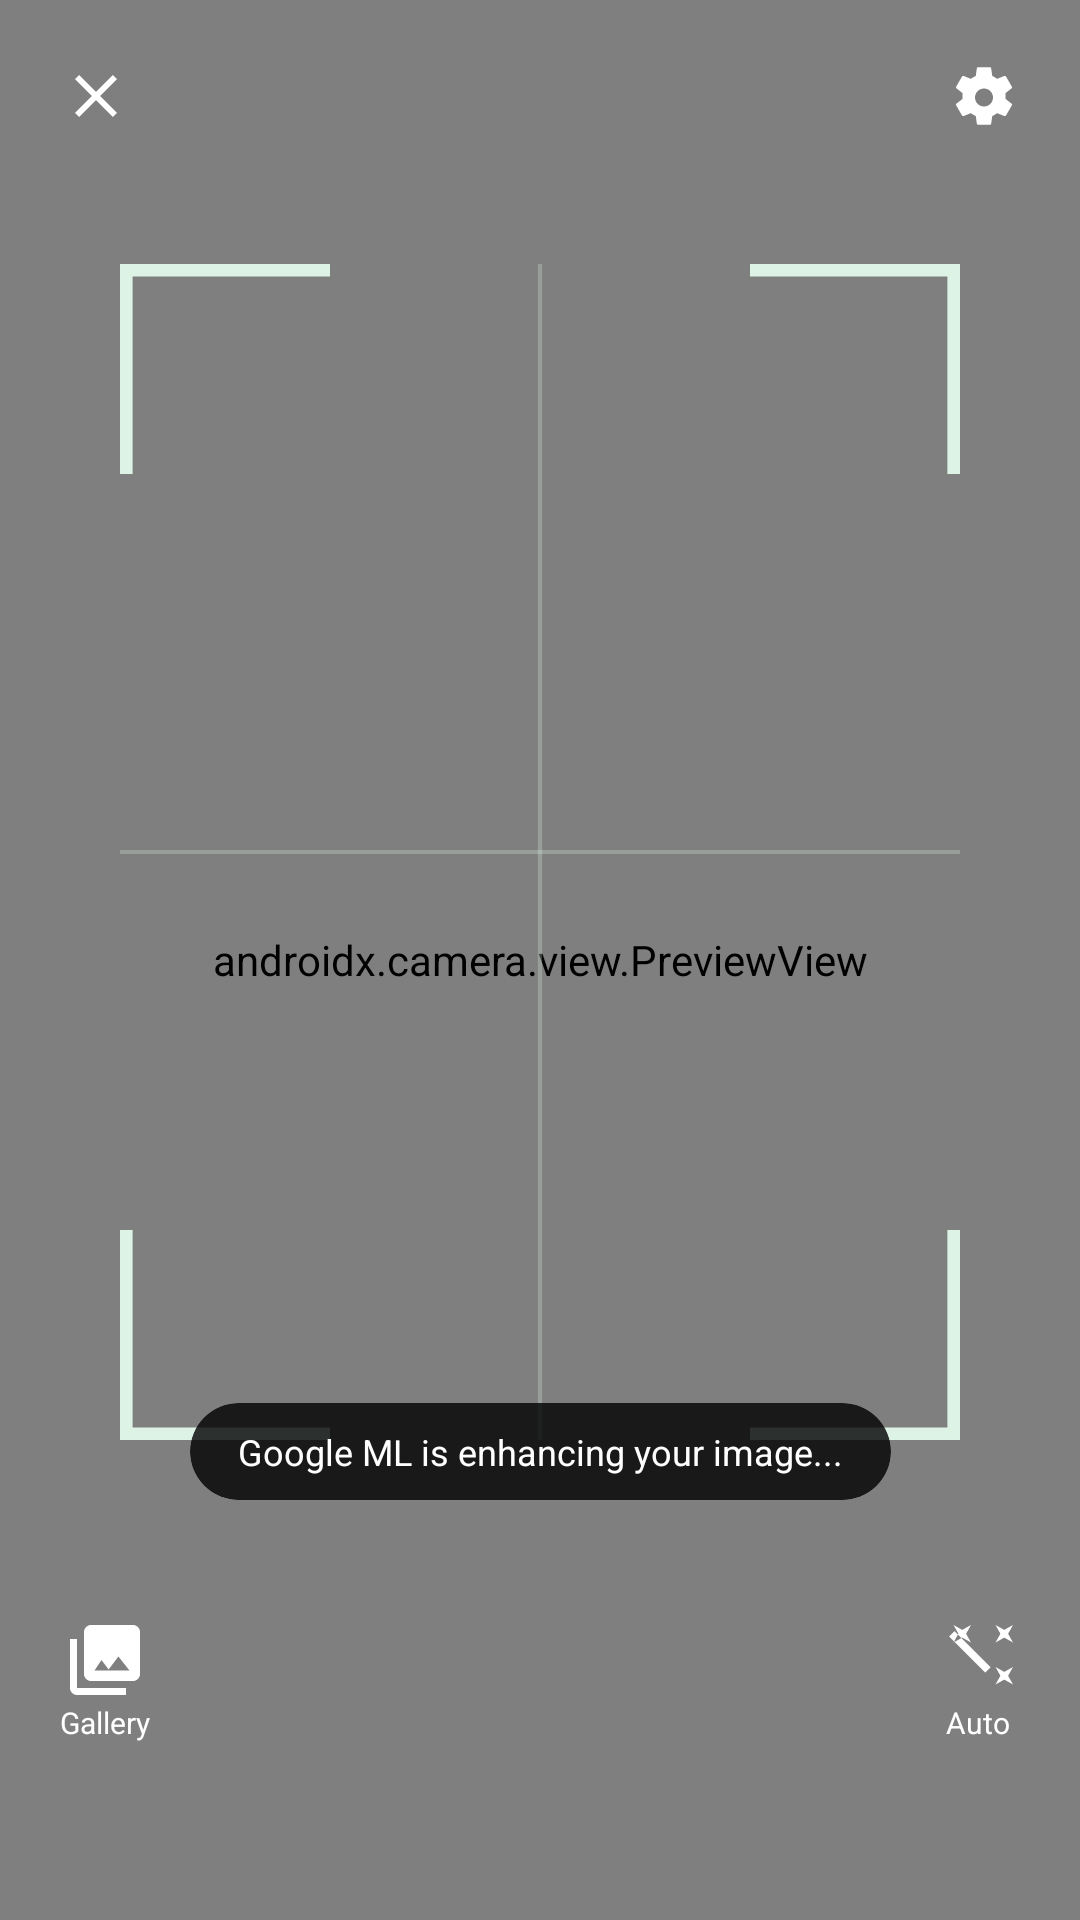

Point at icon controls on the screen. Image size 1080 × 1920, points as (x=x, y=y).
close: (x=96, y=96)
magic wand: (x=981, y=1654)
photo library: (x=105, y=1660)
settings: (x=984, y=96)
